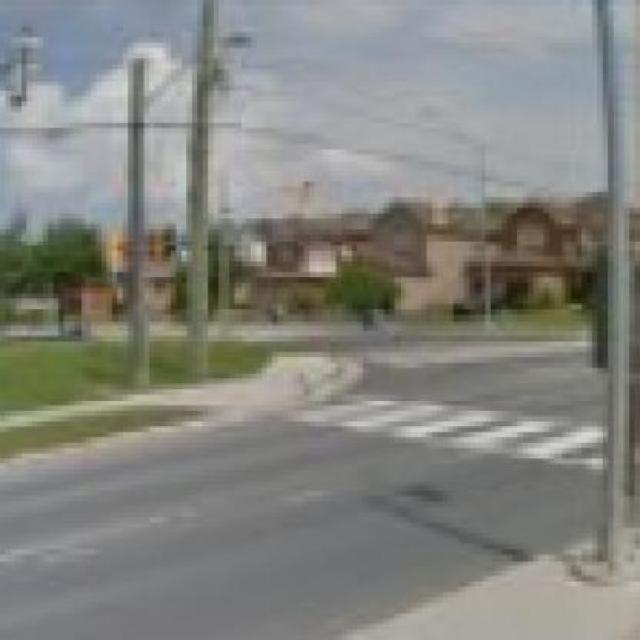crosswalk: (293, 390, 621, 475)
